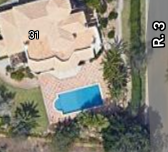pool: (55, 92, 102, 107)
